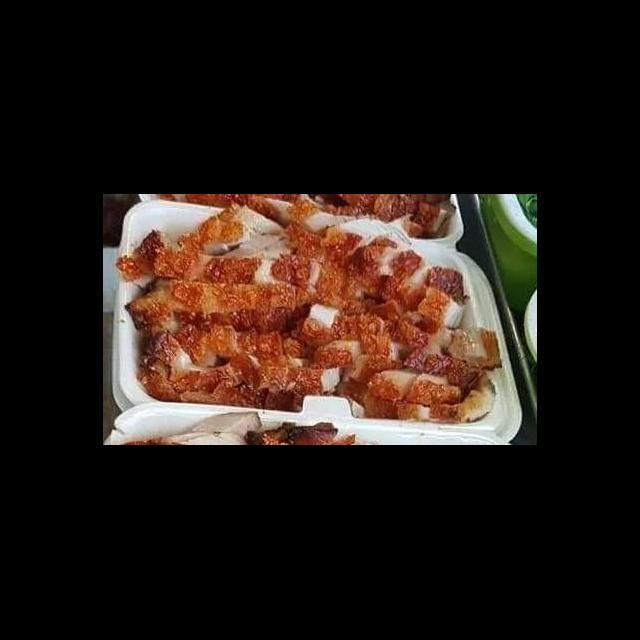thit heo quay: (114, 202, 507, 428)
